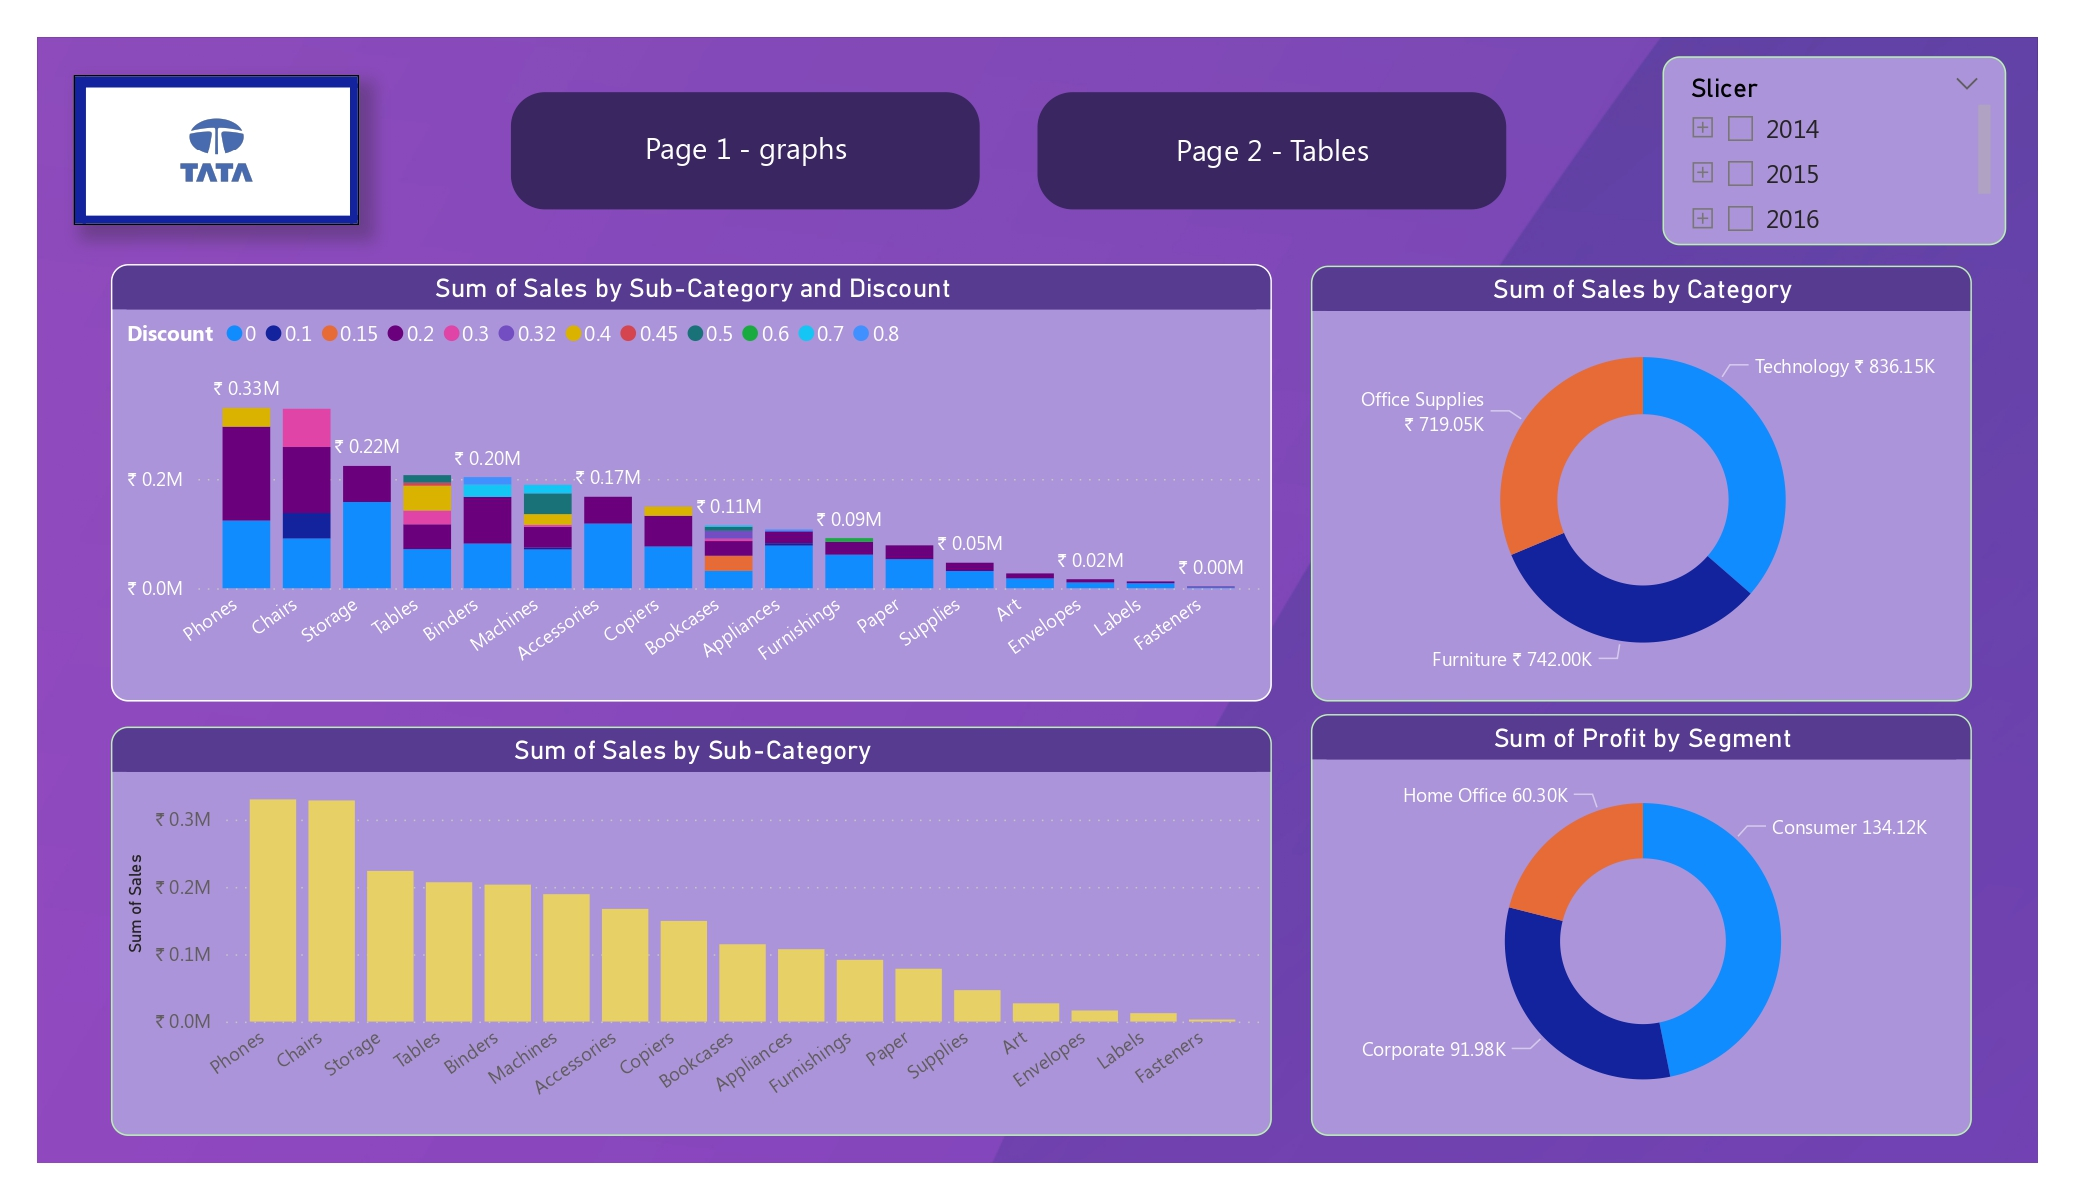

Layout of this report page (visuals, bound fields, positions):
{"tool":"powerbi","page":{"name":"Page 10","canvas":[1280,720],"ordinal":9},"visuals":[{"type":"shape","box":[23.3,24.4,182.7,96],"z":0,"group":"g1"},{"type":"donutChart","fields":{"Category":["Orders.Category"],"Y":["Sum(Orders.Sales)"]},"box":[814.9,146.2,423.1,279.1],"z":0},{"type":"image","box":[53,25.5,123.2,93.8],"z":1000,"group":"g1"},{"type":"columnChart","fields":{"Category":["Orders.Sub-Category"],"Y":["Sum(Orders.Sales)"]},"box":[46.9,440.9,743.4,262.3],"z":1000},{"type":"donutChart","fields":{"Y":["Sum(Orders.Profit)"],"Category":["Orders.Segment"]},"box":[814.9,433.1,423.1,270.1],"z":2000},{"type":"columnChart","fields":{"Y":["Sum(Orders.Sales)"],"Category":["Orders.Sub-Category"],"Series":["Orders.Discount"]},"box":[46.9,145.1,743.4,280.2],"z":5000},{"type":"slicer","fields":{"Values":["Orders.Order Date.Variation.Date Hierarchy.Year","Orders.Order Date.Variation.Date Hierarchy.Quarter","Orders.Order Date.Variation.Date Hierarchy.Month","Orders.Order Date.Variation.Date Hierarchy.Day"]},"box":[1040.4,12.3,219.9,120.6],"z":7000},{"type":"group","id":"g1","title":"Tata Logo","box":[23.3,24.4,182.8,95.5],"z":8000},{"type":"group","id":"g2","title":"Group 1","box":[302.5,34.6,300.3,74.8],"z":9000},{"type":"shape","title":"Page 1 - Graphs","box":[302.5,34.6,300.3,74.8],"z":9000,"group":"g2"},{"type":"group","id":"g3","title":"Group 2","box":[639.6,34.6,300.3,74.8],"z":10000},{"type":"shape","title":"Page 2 - Tables","box":[639.6,34.6,300.3,74.8],"z":10000,"group":"g3"},{"type":"textbox","box":[362.8,52.5,180.8,38],"z":11000,"group":"g2"},{"type":"textbox","box":[699.9,53.6,180.8,38],"z":11001,"group":"g3"}]}

Visuals, with their boxes on the page's 1280x720 design canvas (x1, y1, x2, y2). These are canvas units, not pixel positions in the 2075x1200 screenshot, which may show the page scaled, cropped or inside an application window:
shape: bbox=(23, 24, 206, 120)
donutChart - Orders.Category x Sum(Orders.Sales): bbox=(815, 146, 1238, 425)
image: bbox=(53, 26, 176, 119)
columnChart - Orders.Sub-Category x Sum(Orders.Sales): bbox=(47, 441, 790, 703)
donutChart - Sum(Orders.Profit) x Orders.Segment: bbox=(815, 433, 1238, 703)
columnChart - Sum(Orders.Sales) x Orders.Sub-Category: bbox=(47, 145, 790, 425)
slicer - Orders.Order Date.Variation.Date Hierarchy.Year x Orders.Order Date.Variation.Date Hierarchy.Quarter: bbox=(1040, 12, 1260, 133)
"Tata Logo" group: bbox=(23, 24, 206, 120)
"Group 1" group: bbox=(302, 35, 603, 109)
"Page 1 - Graphs" shape: bbox=(302, 35, 603, 109)
"Group 2" group: bbox=(640, 35, 940, 109)
"Page 2 - Tables" shape: bbox=(640, 35, 940, 109)
textbox: bbox=(363, 52, 544, 90)
textbox: bbox=(700, 54, 881, 92)
